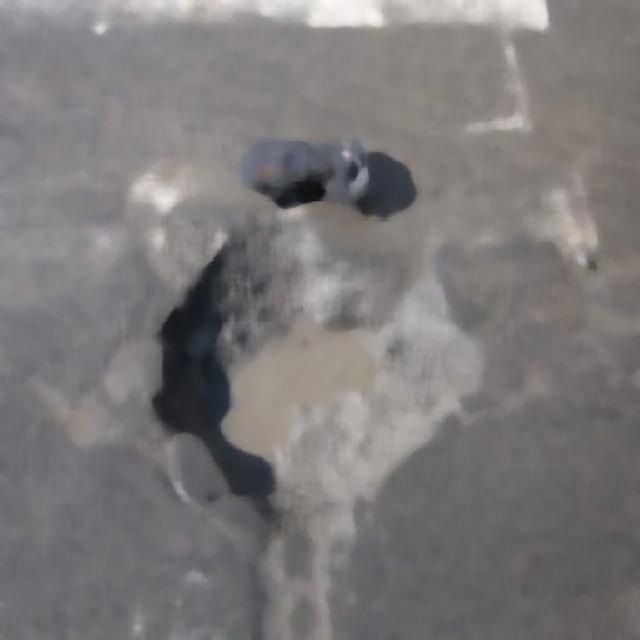Pothole: (200, 256, 418, 492)
